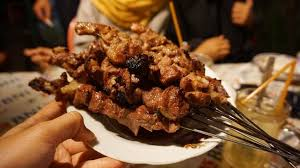sate: (38, 18, 243, 157)
